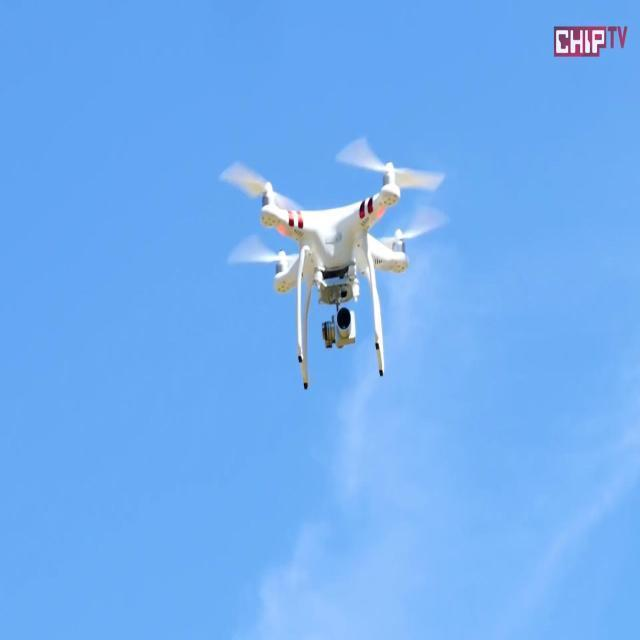drone: (238, 136, 448, 392)
